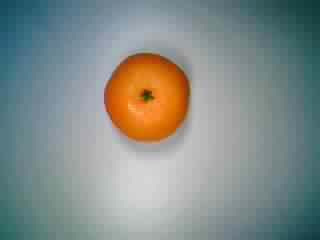orange: (99, 47, 197, 145)
